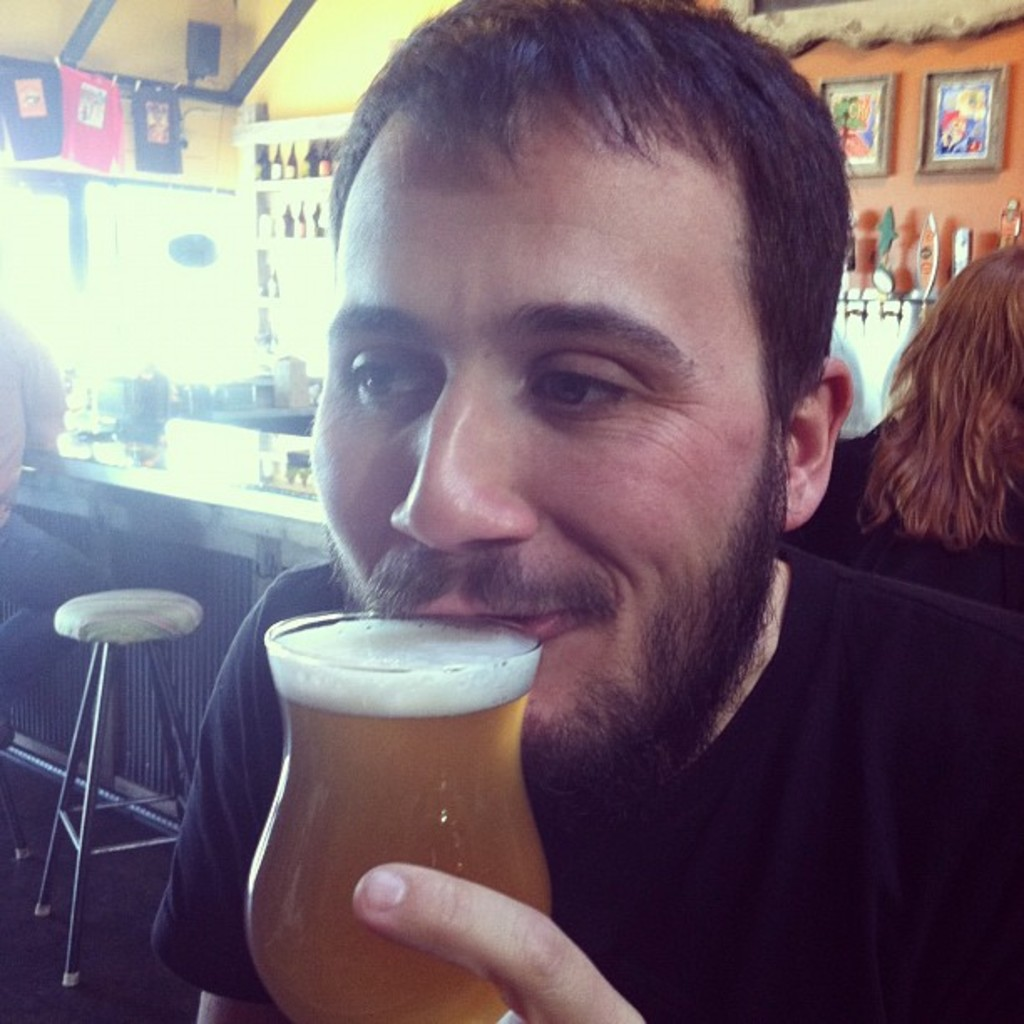Beer: (244, 608, 551, 1023)
